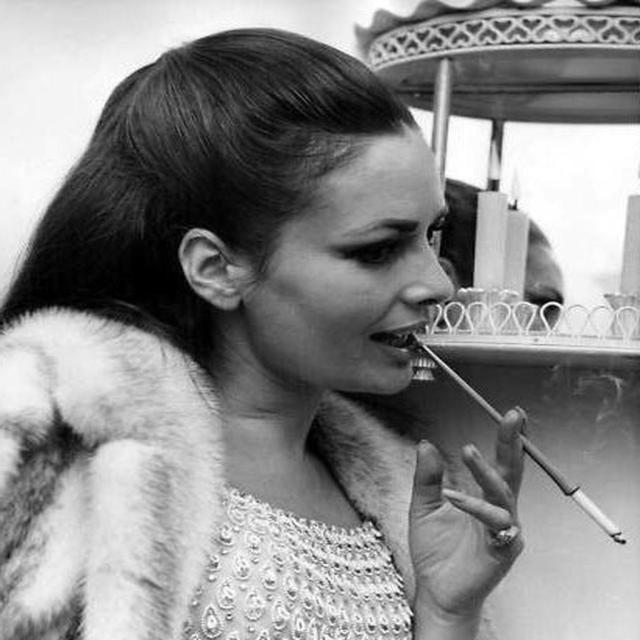smoking: (408, 332, 629, 546)
